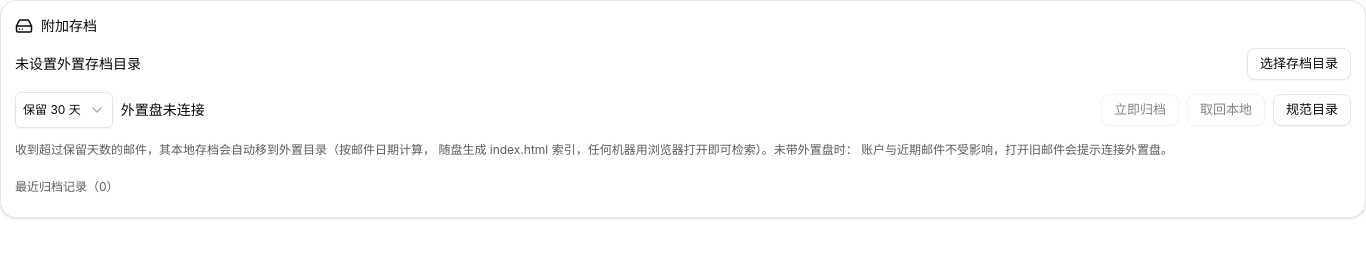
hints that the external drive is unplugged when no archive total exists
Click the button "最近归档记录（0）" at {"x": 67, "y": 187}, box [7, 171, 127, 203]
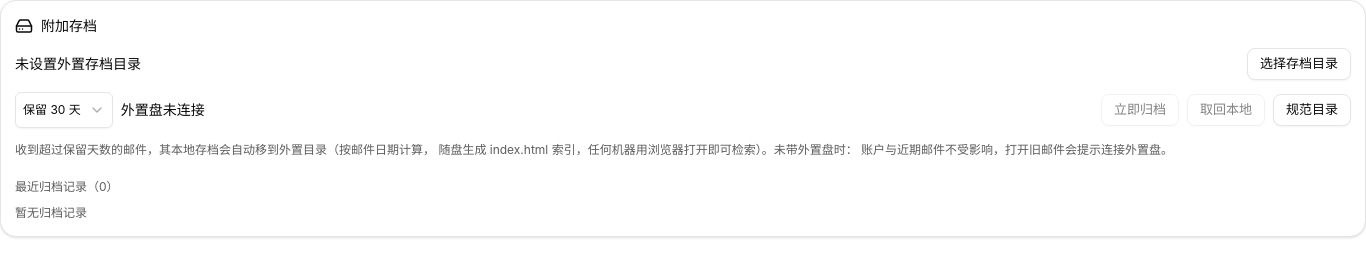
expect the text "暂无归档记录" is shown: met, box [15, 205, 87, 220]
